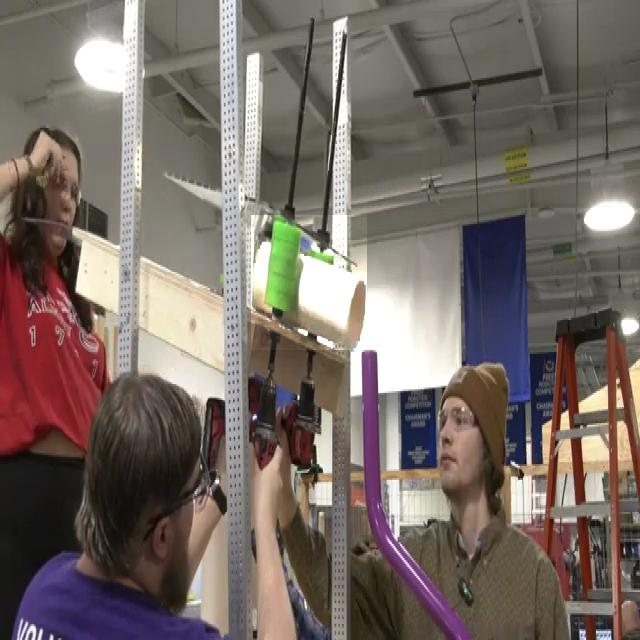Coral: (251, 215, 367, 350)
